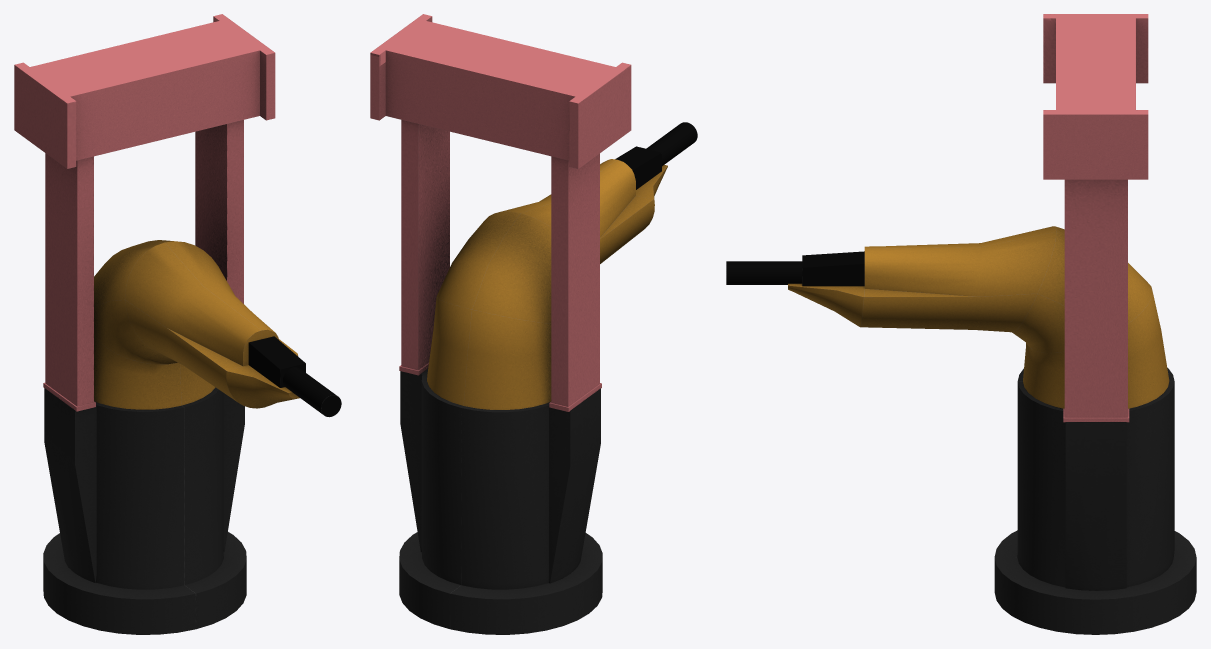
Rendered from Plug.dae.
3 renders of one model, left to right at view 1: azimuth 30°, elevation 25°; view 2: azimuth 150°, elevation 25°; view 3: azimuth 270°, elevation 25°, orthographic.
Visible parts, largest first — view 1: Plug; view 2: Plug; view 3: Plug.
Boxes of the visible parts, x1=… form: Plug: x1=14, y1=14, x2=341, y2=634; Plug: x1=370, y1=14, x2=697, y2=634; Plug: x1=726, y1=14, x2=1196, y2=634.
Bounding box in the file's own units: 0.3651 × 0.7212 × 0.8939.
1 material, 1 textured.
